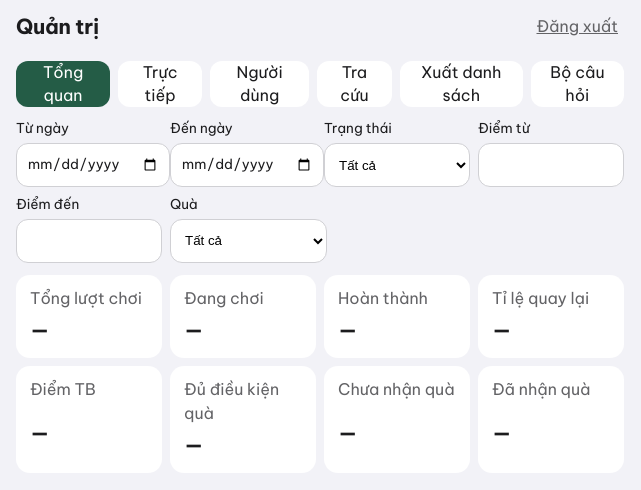
no match shows empty message
The width and height of the screenshot is (641, 490).
Click the button "Tra cứu" at (354, 84), box [317, 61, 392, 107]
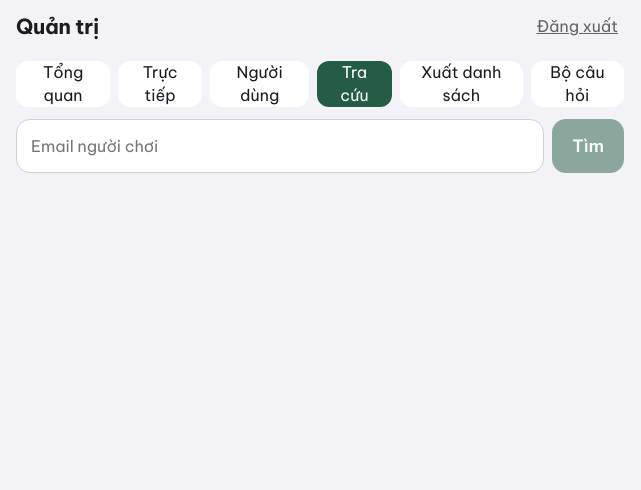
Now the button "Tìm" is shown, box [552, 119, 624, 173]
Type "nobody@x" into the search field labelled "Email người chơi" at (280, 146), box [16, 119, 544, 173]
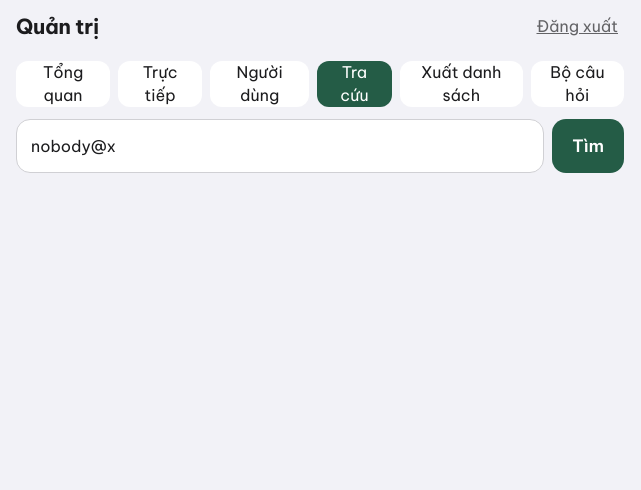
Click the button "Tìm" at (588, 146), box [552, 119, 624, 173]
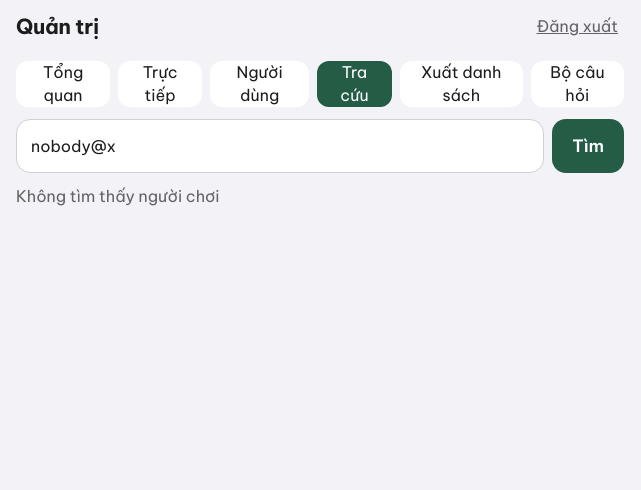
Now the text "Không tìm thấy người chơi" is shown, box [16, 186, 220, 206]
